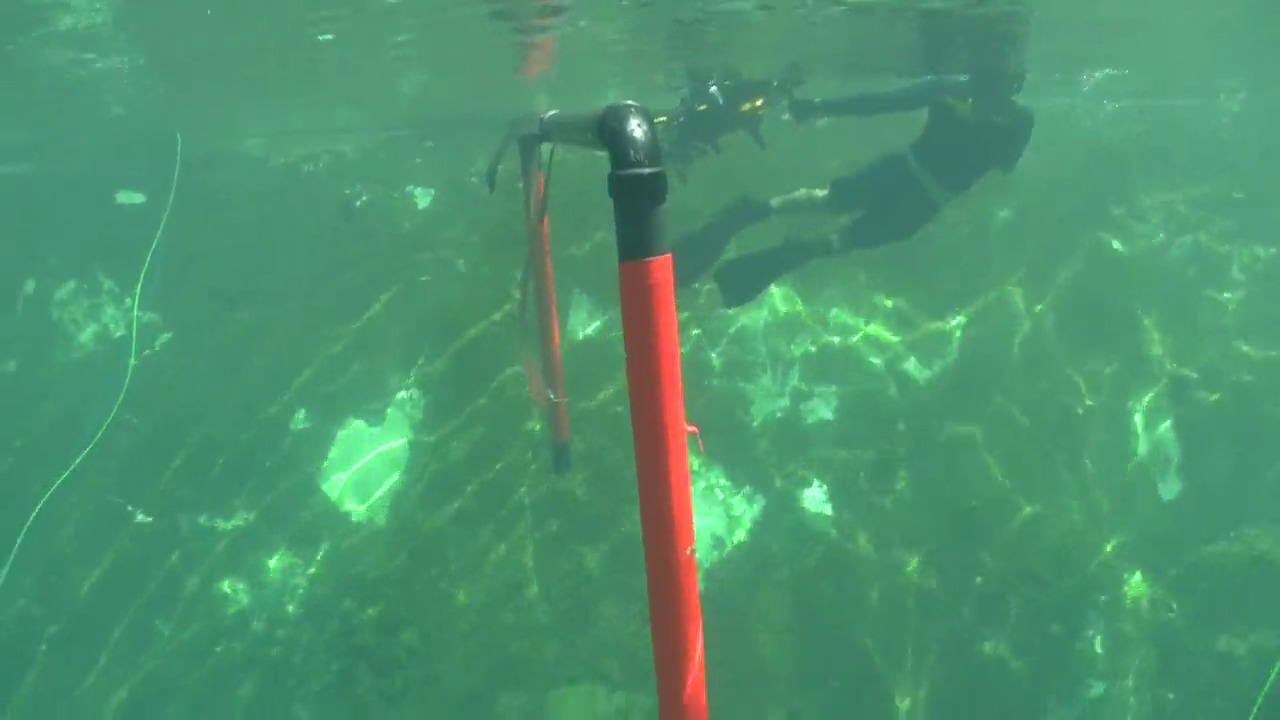gate: (513, 100, 734, 720)
